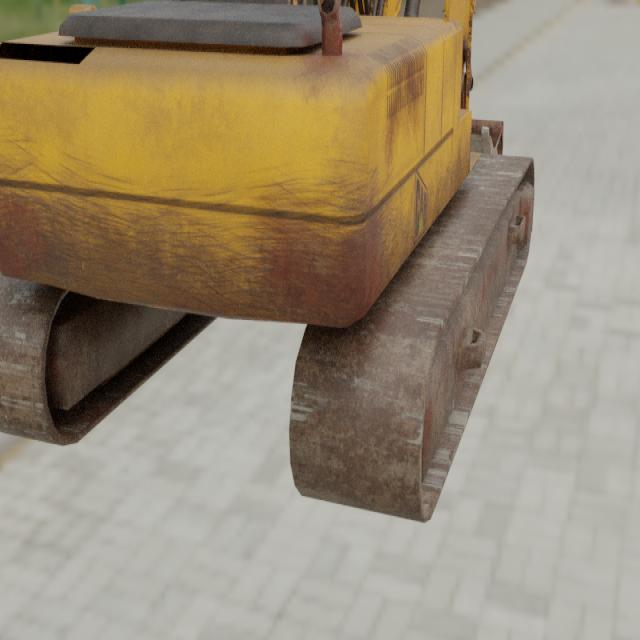excavator: (0, 0, 536, 524)
